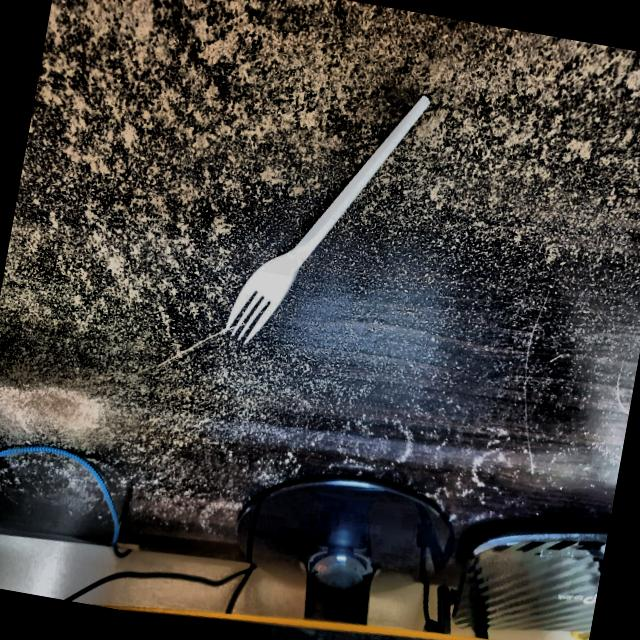plastic utensil: (216, 60, 430, 371)
